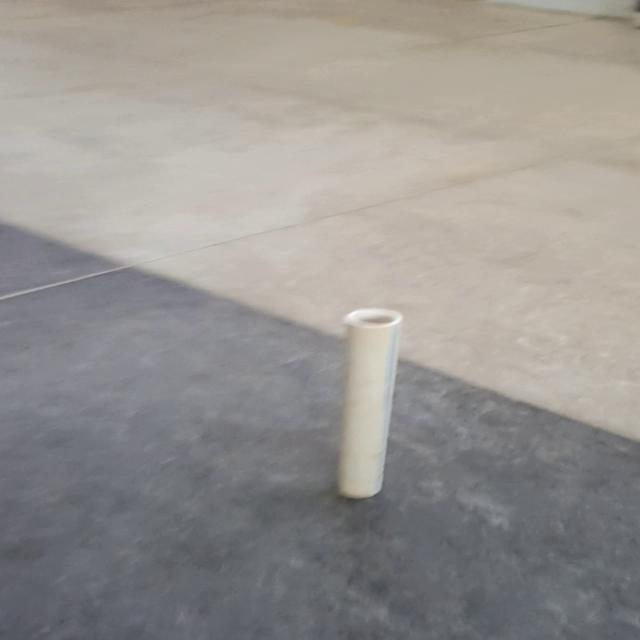Cube: (334, 306, 404, 498)
